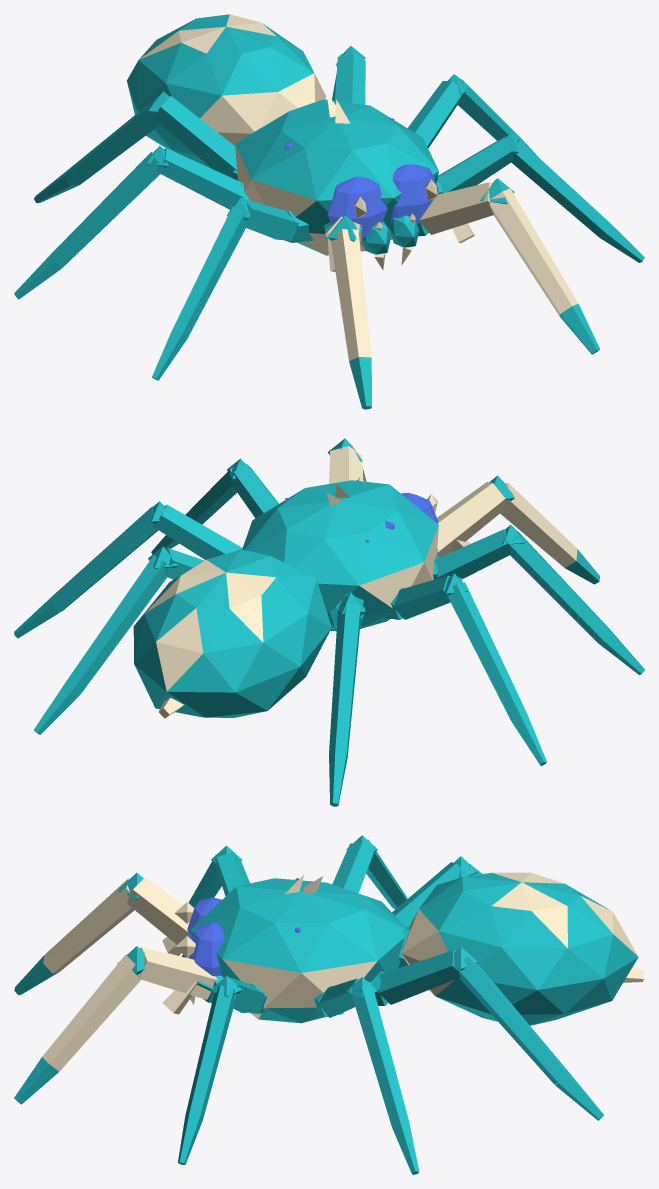
Rendered from jumping.glb.
The picture shows the model from 3 angles, top to bottom: view 1: azimuth 30°, elevation 25°; view 2: azimuth 150°, elevation 25°; view 3: azimuth 270°, elevation 25°; orthographic projection.
Visible parts, largest first — view 1: body, abdomen, leg_L1_lower, leg_R1_lower, leg_R3_lower, leg_R2_lower, leg_L2_lower, leg_R4_lower, leg_R4_upper, leg_L1_upper, leg_R3_upper, leg_L2_upper (+5 smaller); view 2: abdomen, body, leg_L4_lower, leg_R4_lower, leg_R3_lower, leg_R2_lower, leg_L3_lower, leg_R1_lower, leg_R1_upper, leg_L3_upper, leg_R2_upper, leg_R3_upper (+4 smaller); view 3: abdomen, body, leg_L1_lower, leg_L4_lower, leg_L3_lower, leg_L2_lower, leg_R1_lower, leg_L4_upper, leg_L1_upper, leg_R1_upper, leg_R3_upper, leg_R4_upper (+6 smaller).
Boxes of the visible parts, left/top/right/bottom form: body: left=235, top=94, right=438, bottom=255; abdomen: left=127, top=14, right=325, bottom=168; leg_L1_lower: left=480, top=178, right=599, bottom=354; leg_R1_lower: left=327, top=215, right=371, bottom=409; leg_R3_lower: left=14, top=146, right=168, bottom=299; leg_R2_lower: left=152, top=197, right=250, bottom=380; leg_L2_lower: left=505, top=132, right=644, bottom=262; leg_R4_lower: left=34, top=91, right=169, bottom=203; leg_R4_upper: left=154, top=96, right=237, bottom=180; leg_L1_upper: left=417, top=182, right=493, bottom=236; leg_R3_upper: left=156, top=148, right=249, bottom=209; leg_L2_upper: left=436, top=136, right=513, bottom=193; abdomen: left=133, top=549, right=331, bottom=718; body: left=242, top=477, right=438, bottom=631; leg_L4_lower: left=34, top=546, right=177, bottom=734; leg_R4_lower: left=329, top=592, right=365, bottom=806; leg_R3_lower: left=444, top=573, right=546, bottom=765; leg_R2_lower: left=502, top=525, right=644, bottom=674; leg_L3_lower: left=14, top=501, right=165, bottom=638; leg_R1_lower: left=489, top=475, right=599, bottom=584; leg_R1_upper: left=436, top=482, right=506, bottom=557; leg_L3_upper: left=154, top=504, right=242, bottom=559; leg_R2_upper: left=433, top=529, right=511, bottom=579; leg_R3_upper: left=385, top=575, right=462, bottom=619; abdomen: left=398, top=872, right=644, bottom=1025; body: left=175, top=875, right=406, bottom=1023; leg_L1_lower: left=14, top=946, right=145, bottom=1104; leg_L4_lower: left=454, top=946, right=603, bottom=1120; leg_L3_lower: left=346, top=977, right=419, bottom=1174; leg_L2_lower: left=178, top=975, right=242, bottom=1164; leg_R1_lower: left=14, top=873, right=143, bottom=995; leg_L4_upper: left=371, top=950, right=460, bottom=1005; leg_L1_upper: left=138, top=947, right=223, bottom=1002; leg_R1_upper: left=127, top=877, right=190, bottom=944; leg_R3_upper: left=332, top=842, right=374, bottom=893; leg_R4_upper: left=392, top=862, right=467, bottom=926.
Size of the model in its own units: 4.8 by 1.54 by 5.
